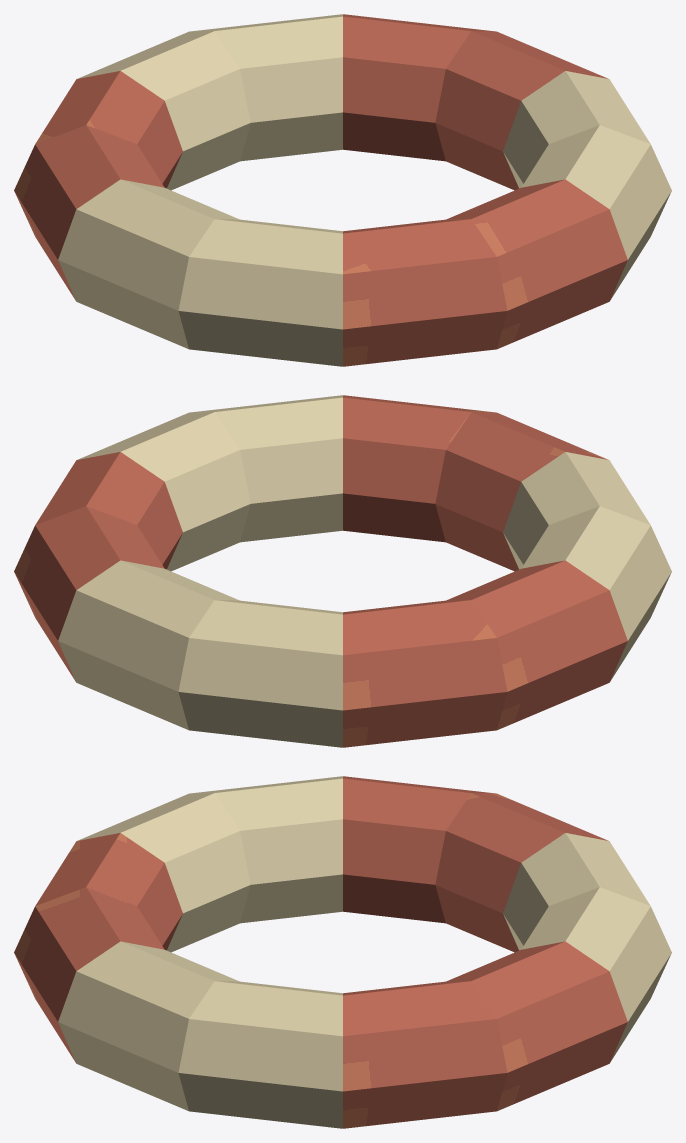
The model's file is swim-ring.glb.
The picture shows the model from 3 angles, top to bottom: view 1: azimuth 30°, elevation 25°; view 2: azimuth 150°, elevation 25°; view 3: azimuth 270°, elevation 25°; orthographic projection.
Parts seen in each view (by area): view 1: swim-ring; view 2: swim-ring; view 3: swim-ring.
Boxes of the visible parts, x1,y1,x2,y2 form: swim-ring: (14, 14, 671, 366); swim-ring: (14, 395, 671, 747); swim-ring: (14, 776, 671, 1128).
Size of the model in its own units: 0.912 by 0.2 by 0.912.
1 material, 1 textured.
